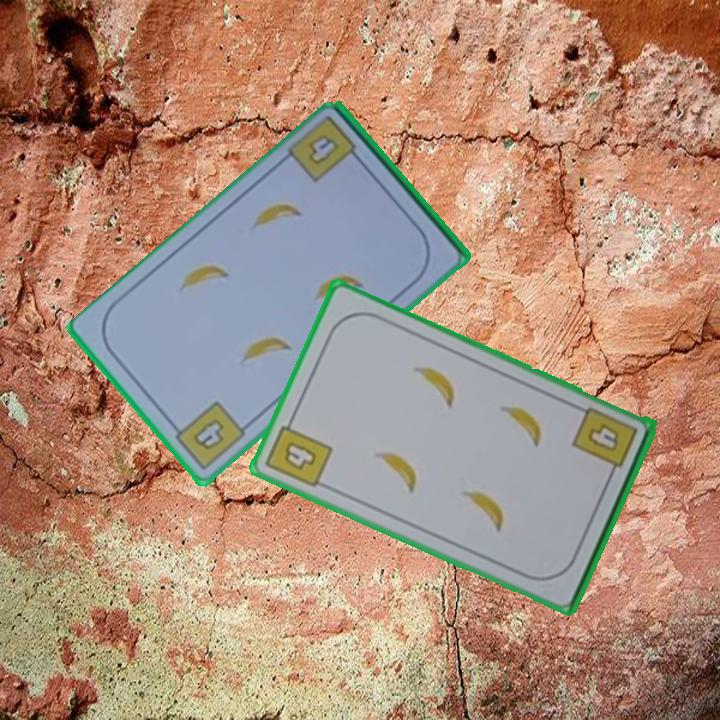4b: (167, 397, 249, 474), (262, 412, 336, 491), (568, 403, 641, 481), (304, 130, 342, 169)
